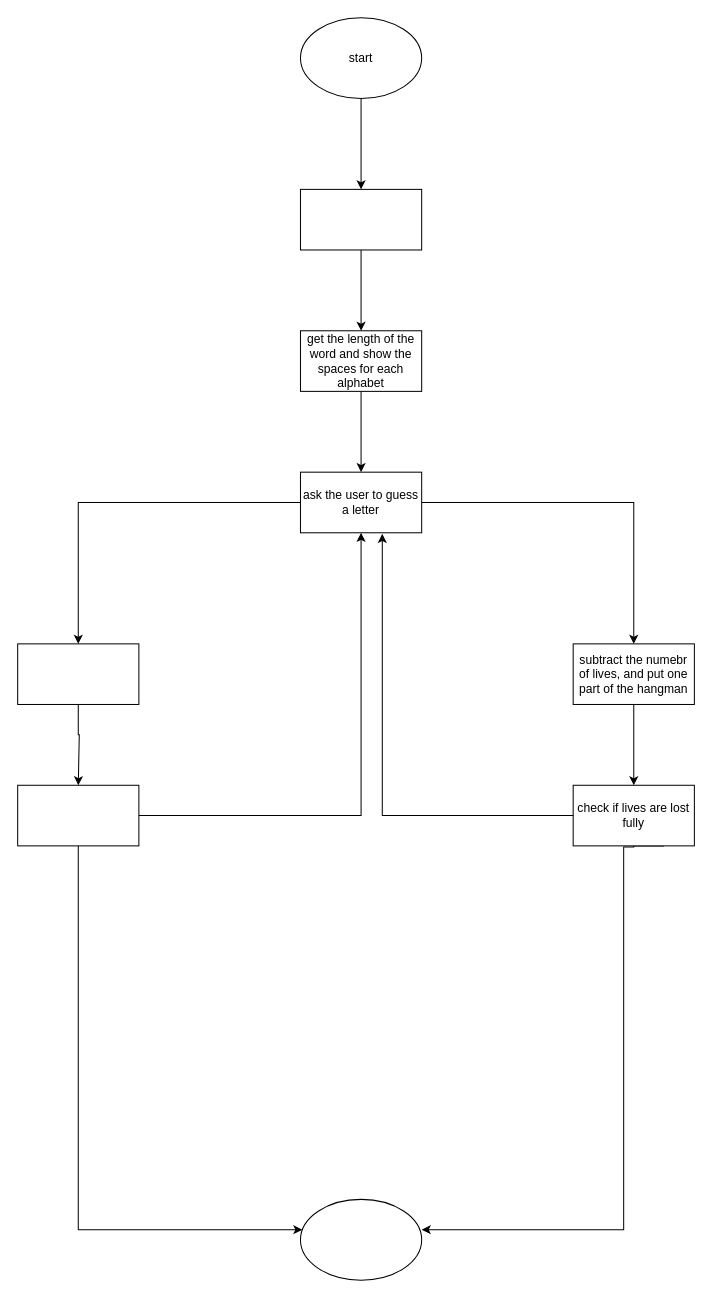
This 712x1298 diagram has some shape labels left out. Here are the shapes that lost their labels. From the top down, the centre of each, then its label:
pixel 360 219: get a random word from the list of words
pixel 78 673: add the alphabet in the required place
pixel 78 815: check if letters are finished
